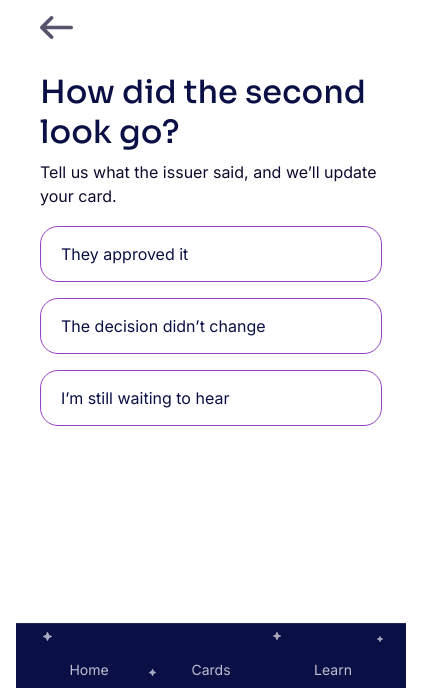
Test: SecondLook › marks the card approved and shows the outcome
Click the button "They approved it" at [125, 254], box [40,226,382,282]
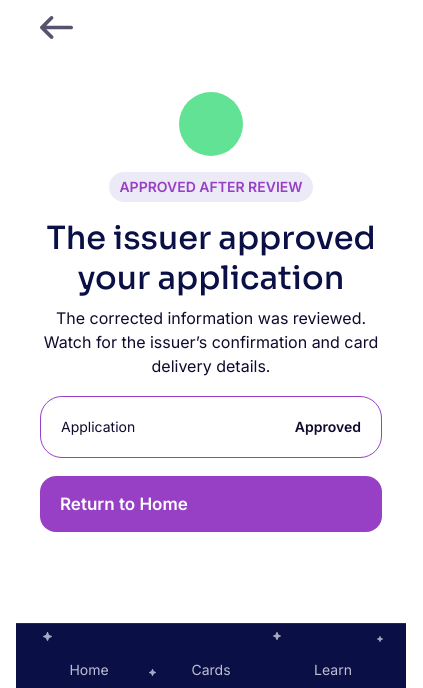
Now the heading "The issuer approved your application" is shown, box [40,218,382,298]
